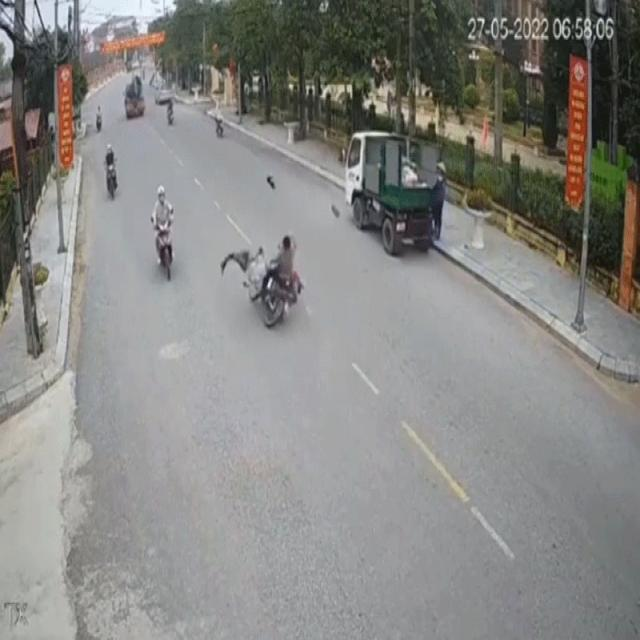multiple_accident: (219, 219, 305, 345)
